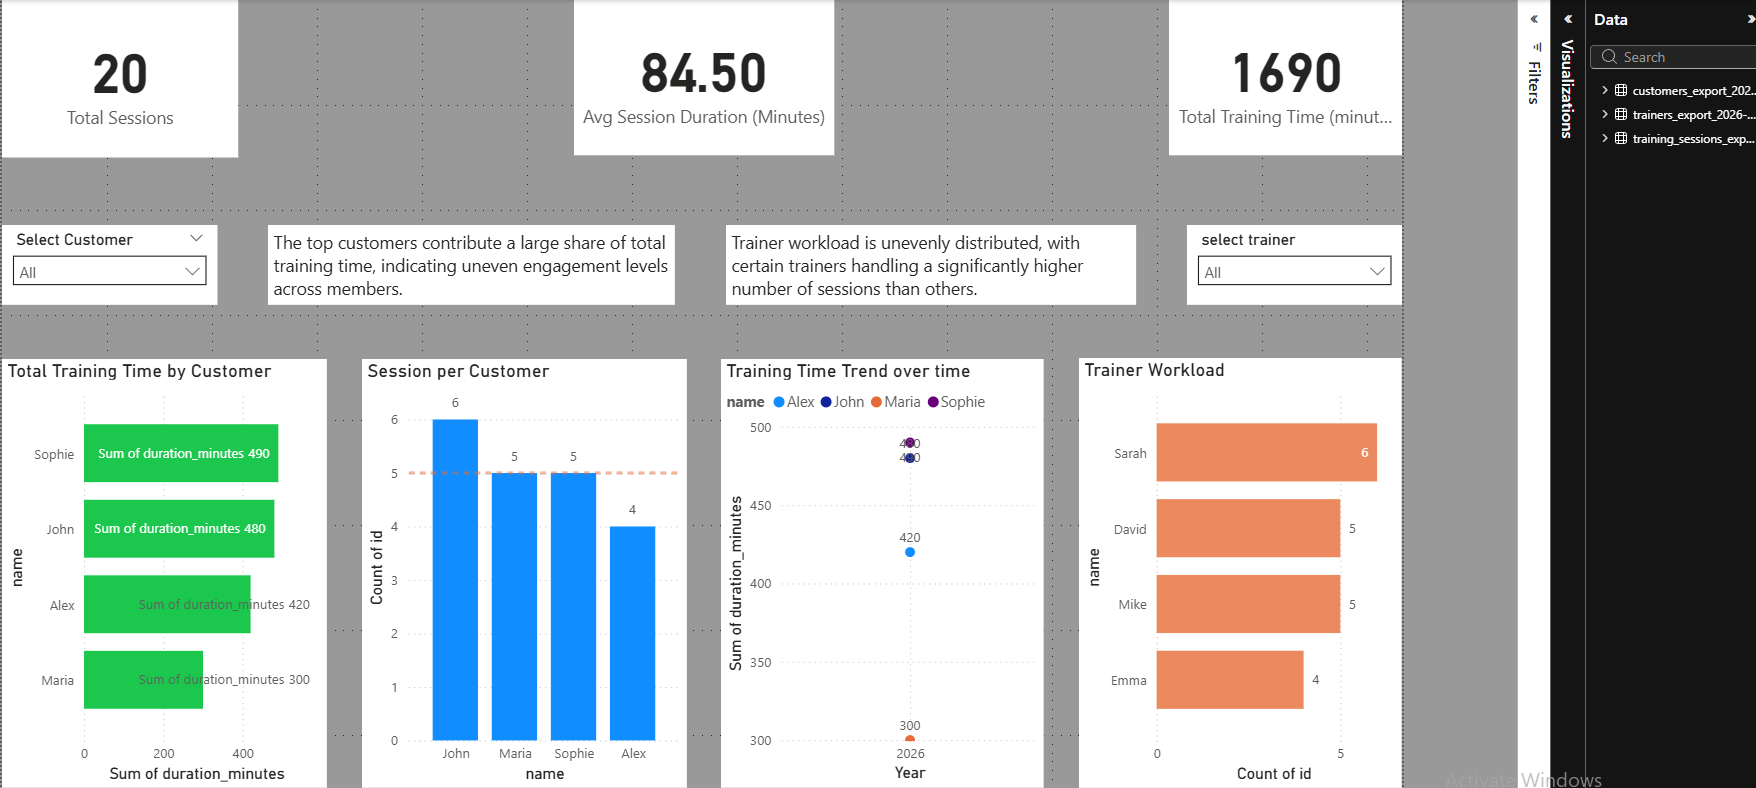

The page's visual inventory and layout, read from the dashboard file:
{"tool":"powerbi","page":{"name":"Page 1","canvas":[1280,720],"ordinal":0},"visuals":[{"type":"clusteredBarChart","title":"Trainer Workload","fields":{"Category":["trainers_export_2026-03-30_111122.name"],"Y":["CountNonNull(training_sessions_export_2026-03-30_111135.id)"]},"box":[984.9,327.7,295.1,392.8],"z":0},{"type":"barChart","title":"Total Training Time by Customer","fields":{"Category":["customers_export_2026-03-30_111105.name"],"Y":["Sum(training_sessions_export_2026-03-30_111135.duration_minutes)"]},"box":[0,328.3,296.5,391.7],"z":1000},{"type":"lineChart","title":"Training Time Trend over time","fields":{"Category":["training_sessions_export_2026-03-30_111135.session_date.Variation.Date Hierarchy.Year","training_sessions_export_2026-03-30_111135.session_date.Variation.Date Hierarchy.Quarter","training_sessions_export_2026-03-30_111135.session_date.Variation.Date Hierarchy.Month","training_sessions_export_2026-03-30_111135.session_date.Variation.Date Hierarchy.Day"],"Y":["Sum(training_sessions_export_2026-03-30_111135.duration_minutes)"],"Series":["customers_export_2026-03-30_111105.name"]},"box":[657.8,328.3,294.7,391.7],"z":2000},{"type":"slicer","title":"select customer","fields":{"Values":["customers_export_2026-03-30_111105.name"]},"box":[0,205.8,196.8,73.5],"z":3000},{"type":"card","fields":{"Values":["Sum(training_sessions_export_2026-03-30_111135.duration_minutes)"]},"box":[1066.9,0,213.1,142.4],"z":4000},{"type":"card","fields":{"Values":["CountNonNull(training_sessions_export_2026-03-30_111135.id)"]},"box":[0,0,216,144],"z":5000},{"type":"card","fields":{"Values":["Avg(training_sessions_export_2026-03-30_111135.duration_minutes)"]},"box":[522.7,0,237.6,142.4],"z":6000},{"type":"lineClusteredColumnComboChart","title":"Session per Customer","fields":{"Category":["customers_export_2026-03-30_111105.name"],"Y":["CountNonNull(training_sessions_export_2026-03-30_111135.id)"]},"box":[328.9,328.3,296.5,391.7],"z":7000},{"type":"slicer","fields":{"Values":["trainers_export_2026-03-30_111122.name"]},"box":[1083.2,205.8,196.8,73.5],"z":8000},{"type":"textbox","box":[243.3,205.8,371.8,73.5],"z":9000},{"type":"textbox","box":[661.7,205.8,375.4,73.5],"z":10000}]}

Visuals, with their boxes in screenshot pixels (x1, y1, x2, y2):
"Trainer Workload" clusteredBarChart: [1214, 357, 1544, 787]
"Total Training Time by Customer" barChart: [114, 358, 445, 787]
"Training Time Trend over time" lineChart: [849, 358, 1178, 787]
"select customer" slicer: [114, 221, 334, 303]
card - Sum(training_sessions_export_2026-03-30_111135.duration_minutes): [1306, 0, 1544, 150]
card - CountNonNull(training_sessions_export_2026-03-30_111135.id): [114, 0, 356, 152]
card - Avg(training_sessions_export_2026-03-30_111135.duration_minutes): [698, 0, 964, 150]
"Session per Customer" lineClusteredColumnComboChart: [482, 358, 813, 787]
slicer - trainers_export_2026-03-30_111122.name: [1324, 221, 1544, 303]
textbox: [386, 221, 801, 303]
textbox: [853, 221, 1273, 303]
